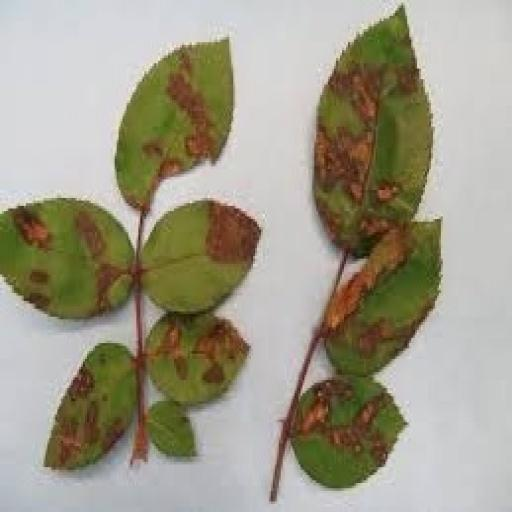downy_mildew: (315, 8, 432, 255), (115, 40, 233, 211), (327, 222, 440, 374), (0, 198, 134, 319), (141, 201, 260, 314), (291, 378, 405, 488), (46, 344, 136, 469), (147, 315, 249, 403), (147, 402, 195, 456)
